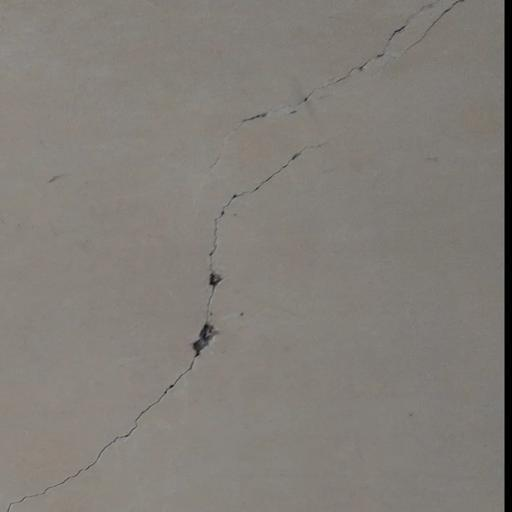minor_crack: (0, 150, 336, 512), (220, 0, 512, 128)
